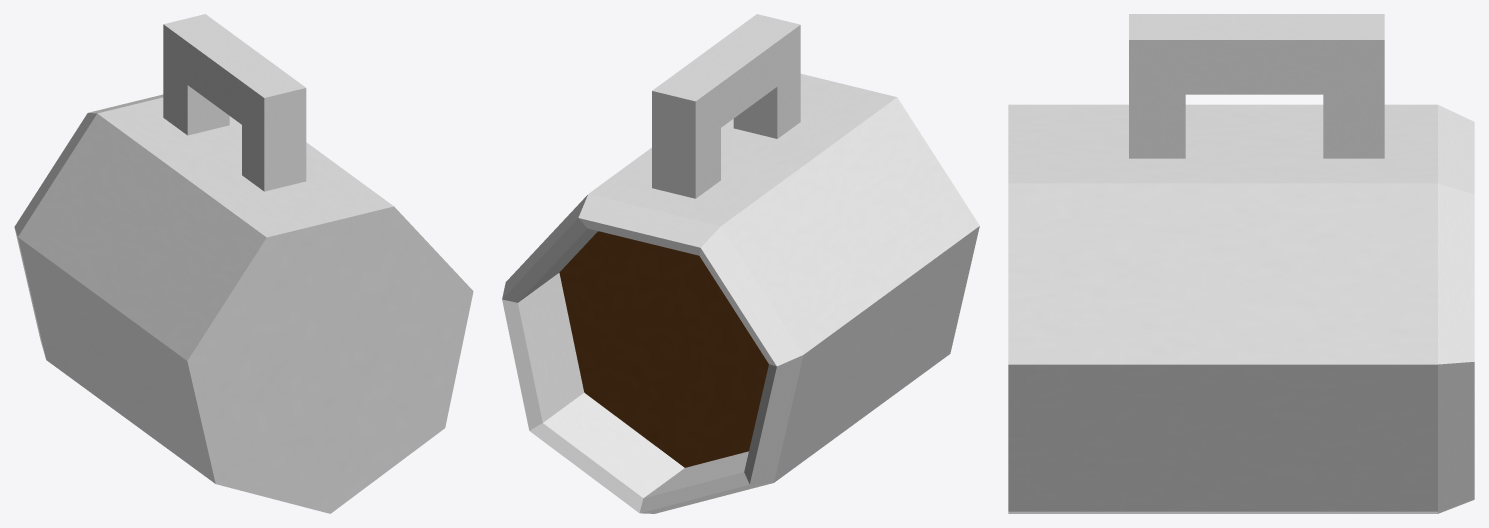
The model's file is blue_symbol_coffee.FBX.
3 renders of one model, left to right at view 1: azimuth 30°, elevation 25°; view 2: azimuth 150°, elevation 25°; view 3: azimuth 270°, elevation 25°, orthographic. The views are drawn at different scales.
Parts seen in each view (by area): view 1: pink_coffee; view 2: pink_coffee; view 3: pink_coffee.
Part boxes in pixels (<box>): pink_coffee: <box>14,14,473,513</box>; pink_coffee: <box>502,14,979,513</box>; pink_coffee: <box>1008,14,1474,513</box>.
Size of the model in its own units: 144 by 185 by 160.
